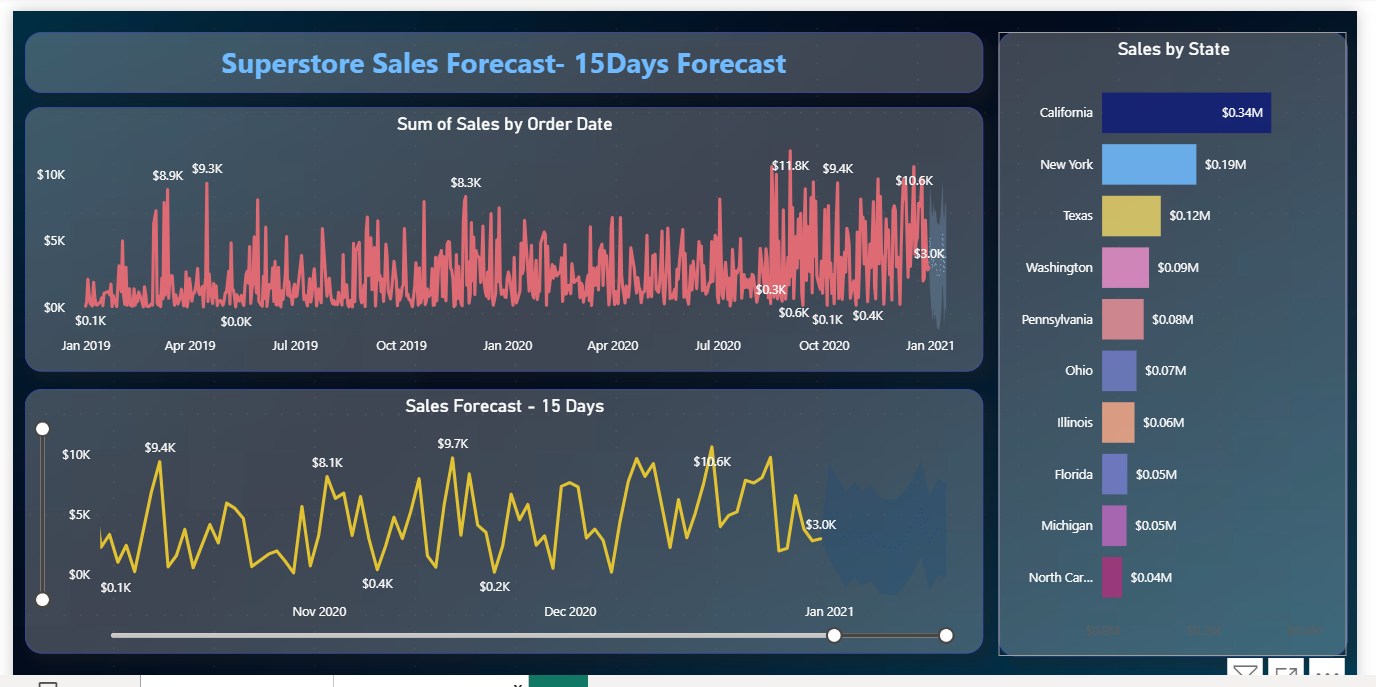

The dashboard page shown, as its layout file describes it:
{"tool":"powerbi","page":{"name":"15 Days Forecast","canvas":[1280,720],"ordinal":1},"visuals":[{"type":"lineChart","fields":{"Y":["Sum(SuperStore_Sales.Sales)"],"Category":["SuperStore_Sales.Order Date"]},"box":[11.3,91.5,912.7,252.1],"z":0},{"type":"lineChart","title":"Sales Forecast - 15 Days","fields":{"Y":["Sum(SuperStore_Sales.Sales)"],"Category":["SuperStore_Sales.Order Date"]},"box":[11.3,360.6,912.7,252.1],"z":1000},{"type":"clusteredBarChart","title":"Sales by State","fields":{"Category":["SuperStore_Sales.State"],"Y":["Sum(SuperStore_Sales.Sales)"]},"box":[938,19.7,332.4,594.4],"z":2000},{"type":"textbox","box":[11.3,19.7,912.7,57.7],"z":3000}]}

Visuals, with their boxes on the page's 1280x720 design canvas (x1, y1, x2, y2). These are canvas units, not pixel positions in the 1376x687 screenshot, which may show the page scaled, cropped or inside an application window:
lineChart - Sum(SuperStore_Sales.Sales) x SuperStore_Sales.Order Date: select_region(11, 92, 924, 344)
"Sales Forecast - 15 Days" lineChart: select_region(11, 361, 924, 613)
"Sales by State" clusteredBarChart: select_region(938, 20, 1270, 614)
textbox: select_region(11, 20, 924, 77)
